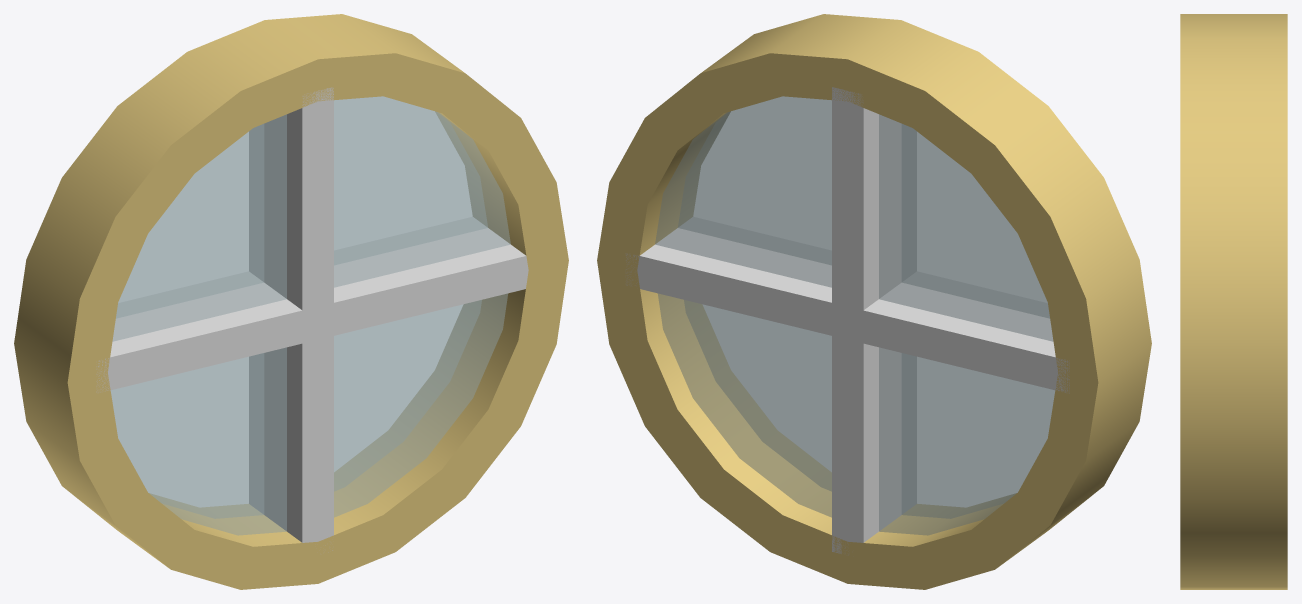
File: pencere 2.3.fbx
The picture shows the model from 3 angles, left to right: view 1: azimuth 30°, elevation 25°; view 2: azimuth 150°, elevation 25°; view 3: azimuth 270°, elevation 25°; orthographic projection.
Parts seen in each view (by area): view 1: pPipe3; view 2: pPipe3; view 3: pPipe3.
Part boxes in pixels (<box>): pPipe3: <box>14,14,568,589</box>; pPipe3: <box>597,14,1151,589</box>; pPipe3: <box>1180,14,1287,589</box>.
Bounding box in the file's own units: 688 × 688 × 127.
